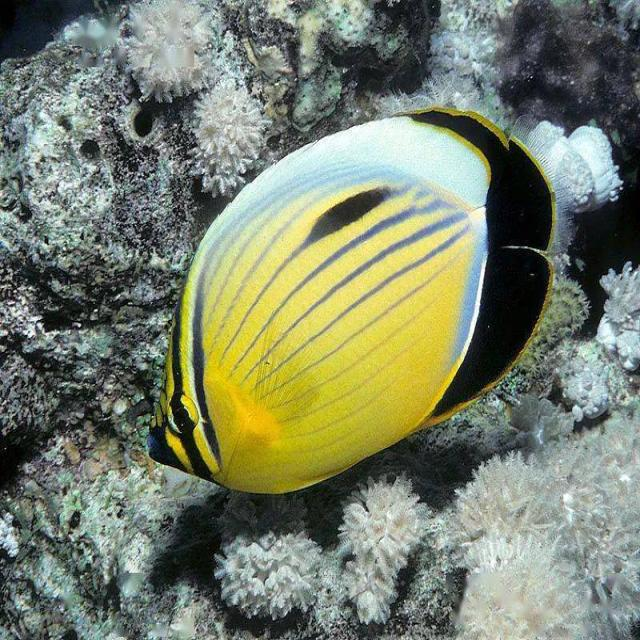ButterflyFish: (145, 113, 592, 502)
